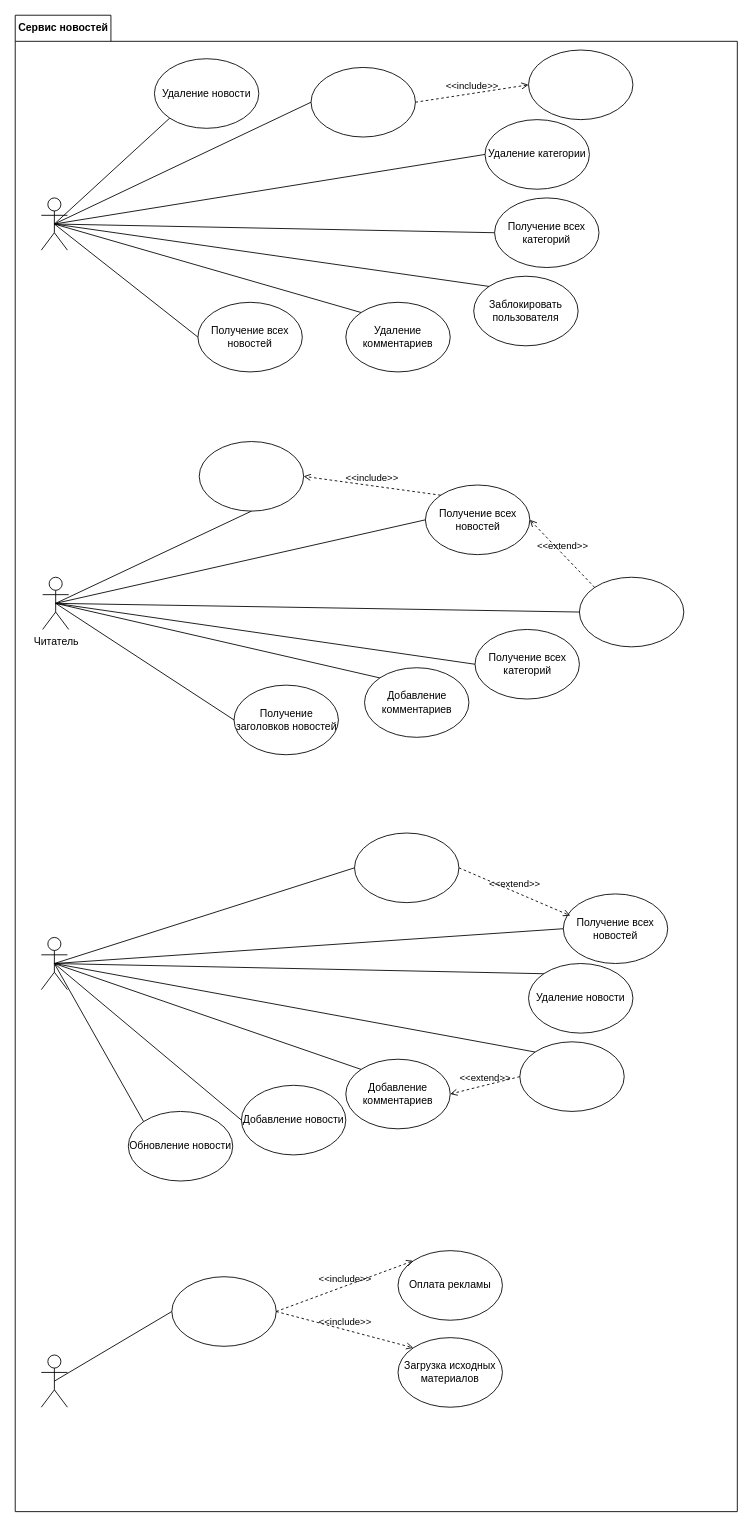
Some shapes in this 753 by 1527 pixel diagram are drawn without their labels. Each missing label, with the box of its shape:
Автор: (40, 937, 67, 990)
Администратор: (40, 197, 67, 250)
Добавление авторских комментариев: (519, 1041, 624, 1111)
Запрос на размещение рекламы: (171, 1276, 276, 1346)
Получение авторских новостей: (354, 832, 459, 903)
Получение средств за рекламу: (528, 49, 633, 120)
Получение хороших новостей: (579, 576, 684, 647)
Размещение рекламы: (310, 67, 415, 137)
Рекламодатель: (40, 1354, 67, 1407)
Сортировать полученные новости: (198, 441, 304, 511)
